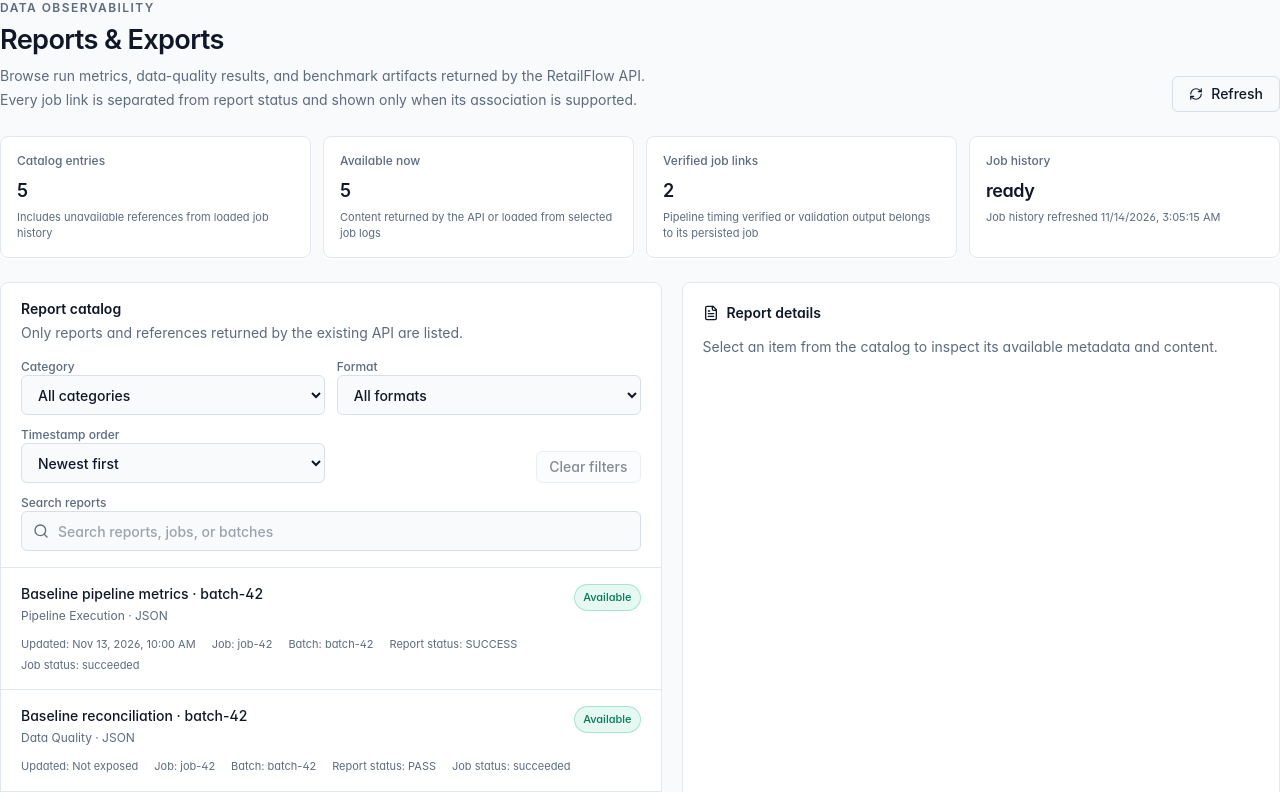
Test: ReportsPage › filters report types and links a selected report only to a verified job
Later steps or results of the test are not shown.
Click the button "Baseline pipeline metrics · batch-42" at [142, 594], box [1, 568, 660, 689]
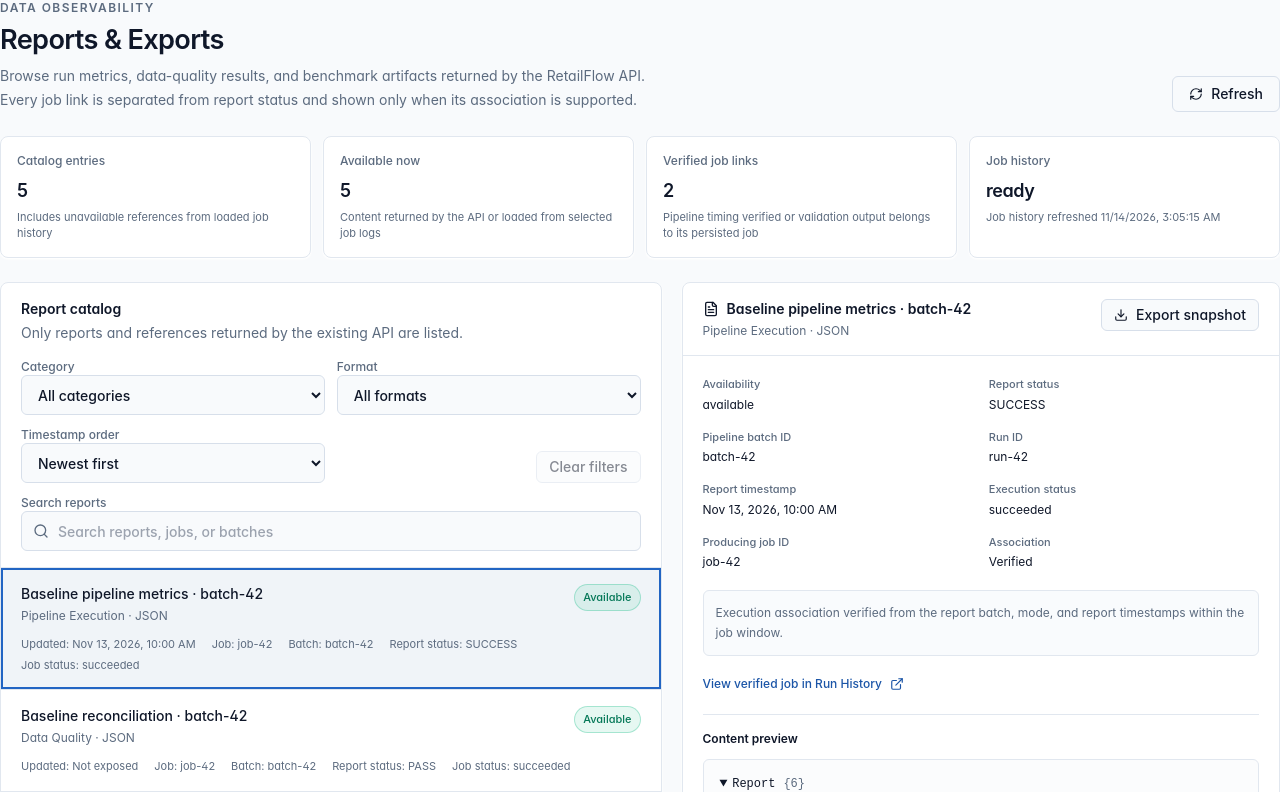
Now the text "run-42" is shown, box [989, 449, 1028, 464]
